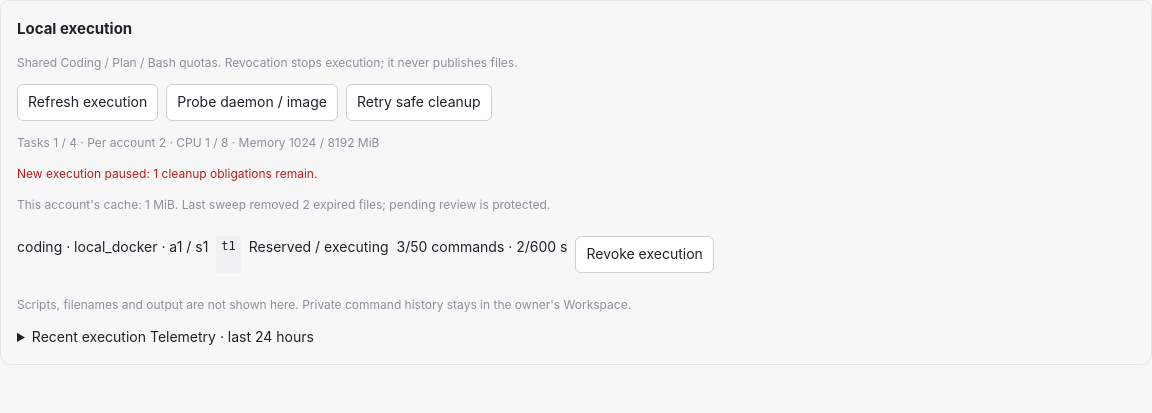
it: execution administration › does not present a daemon probe as execution authorization
This screenshot has width=1152, height=413.
Click the button "Probe daemon / image". click: (252, 102)
box: [166, 84, 338, 121]
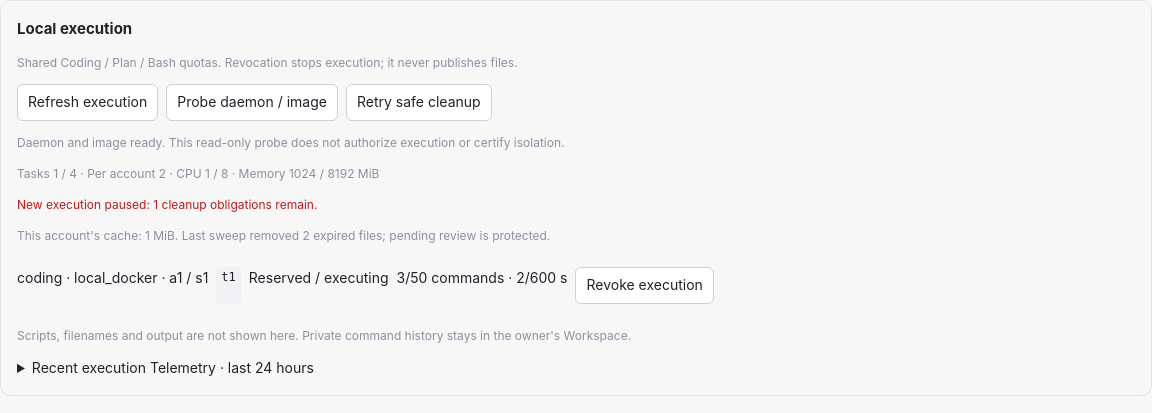
Expected: the text "does not authorize execution or certify isolation" is shown, [17, 135, 564, 150]
